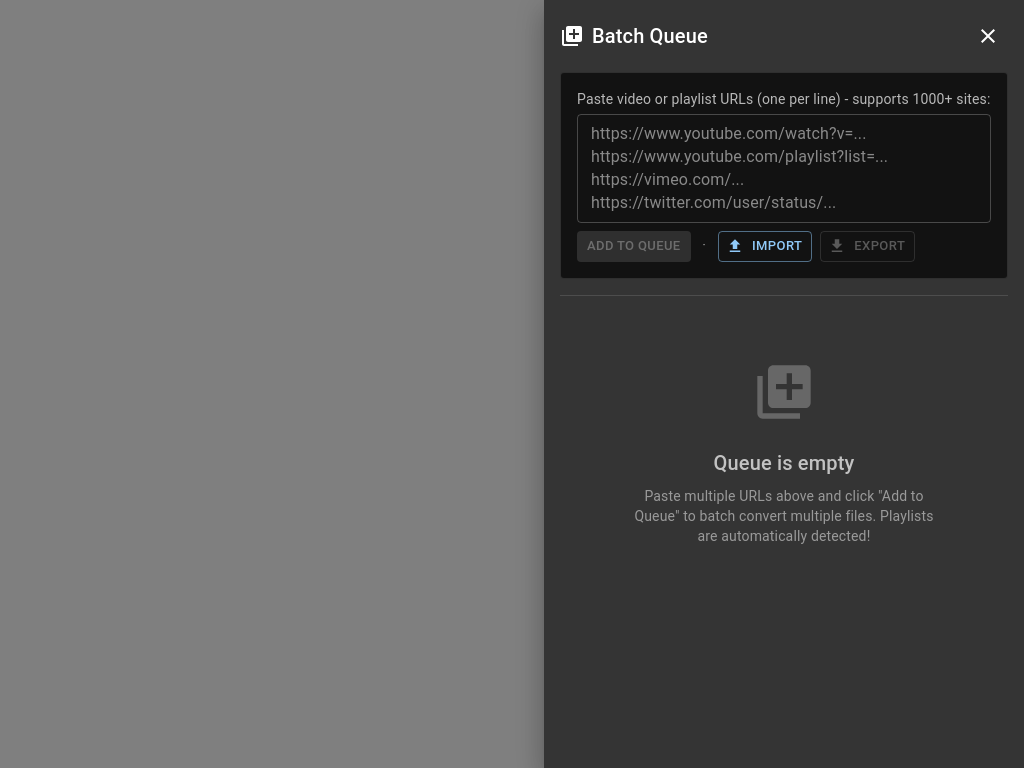
Test: QueuePanel › adds a valid URL to the queue
The image size is (1024, 768).
Click the text box at [784, 168], box [591,122,977,214]
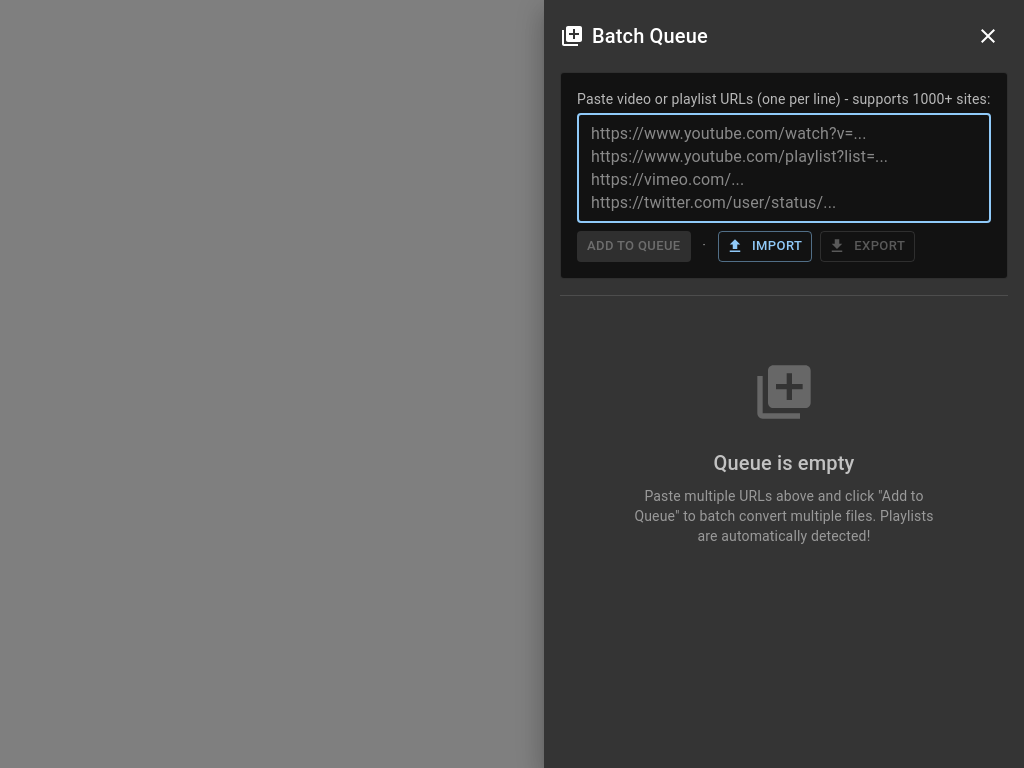
Type keys "https://www.youtube.com/watch?v=dQw4w9WgXcQ"
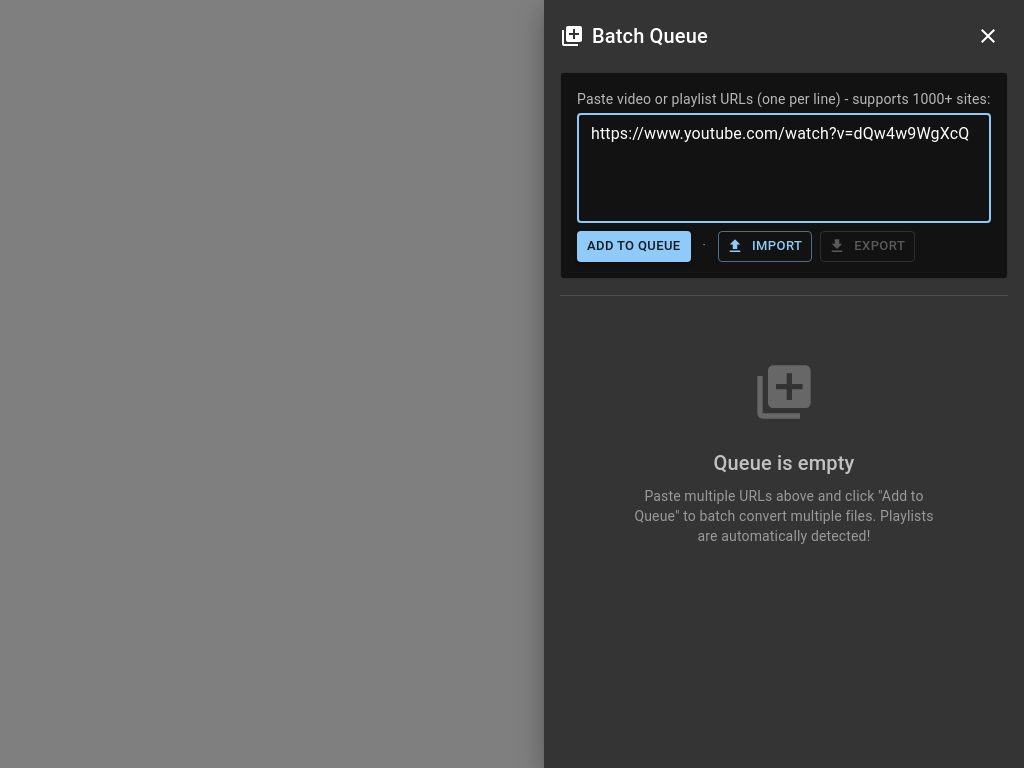
Click the button "Add to Queue" at [634, 246], box [577,231,690,262]
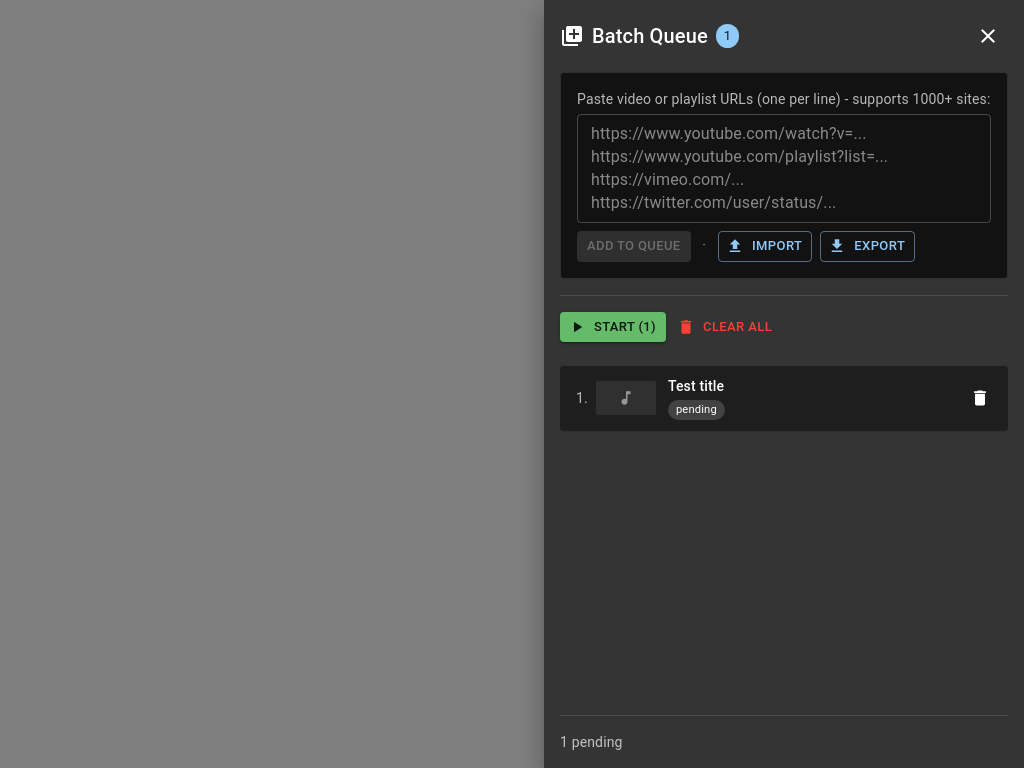
Expected: the text "Test title" is shown, [668,376,724,396]
